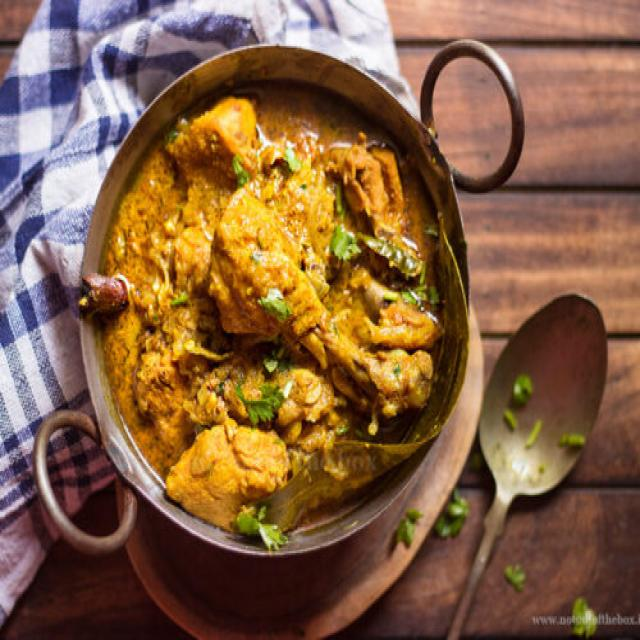Chicken Gravy: (77, 48, 472, 507)
